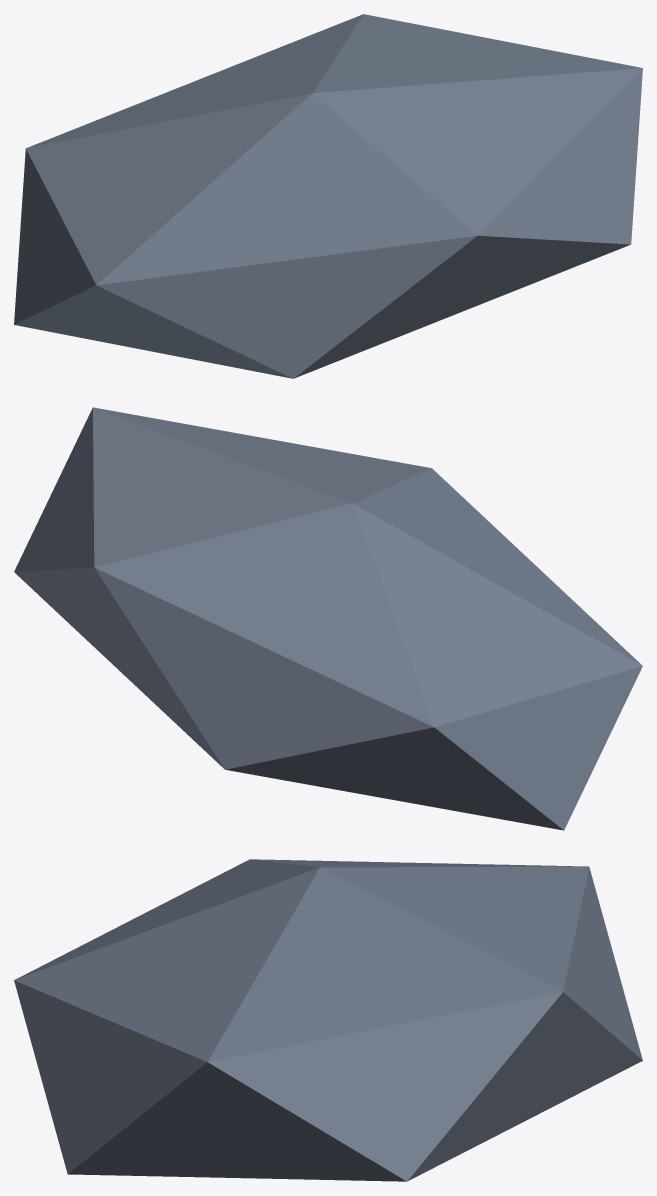
The model's file is EXTG_NorthLooseStone_04.glb.
3 views of the same model, one above another, from view 1: azimuth 30°, elevation 25°; view 2: azimuth 150°, elevation 25°; view 3: azimuth 270°, elevation 25° (orthographic). The views are drawn at different scales.
Visible parts, largest first — view 1: EXTG_NorthLooseStone_04; view 2: EXTG_NorthLooseStone_04; view 3: EXTG_NorthLooseStone_04.
Part boxes in pixels (x1,y1,x2,y2): EXTG_NorthLooseStone_04: [14, 14, 642, 378]; EXTG_NorthLooseStone_04: [14, 407, 642, 830]; EXTG_NorthLooseStone_04: [14, 859, 642, 1181].
Bounding box in the file's own units: 0.9207 × 0.3631 × 0.7337.
